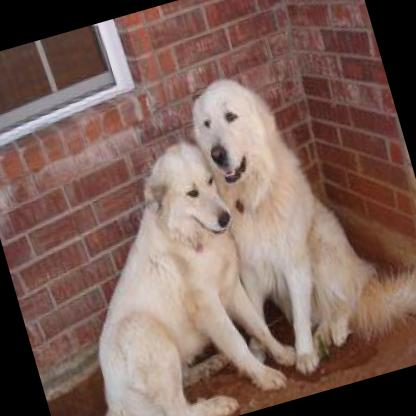Great_Pyrenees: (10, 119, 306, 416), (179, 31, 416, 388)
